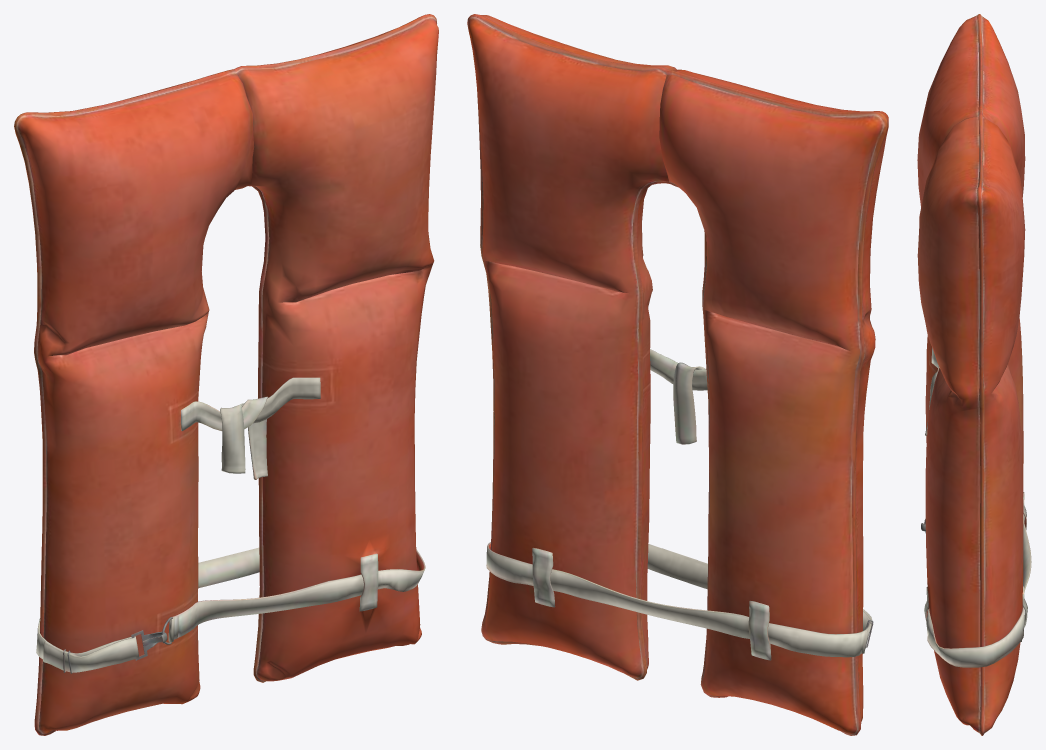
File: life_jacket.glb
The picture shows the model from 3 angles, left to right: view 1: azimuth 30°, elevation 25°; view 2: azimuth 150°, elevation 25°; view 3: azimuth 270°, elevation 25°; orthographic projection. The views are drawn at different scales.
Parts seen in each view (by area): view 1: life_jacket; view 2: life_jacket; view 3: life_jacket.
Part boxes in pixels (<box>): life_jacket: <box>14,14,438,735</box>; life_jacket: <box>467,14,888,735</box>; life_jacket: <box>917,14,1031,735</box>.
Bounding box in the file's own units: 0.6956 × 0.9923 × 0.1842.
1 material, 1 textured.
